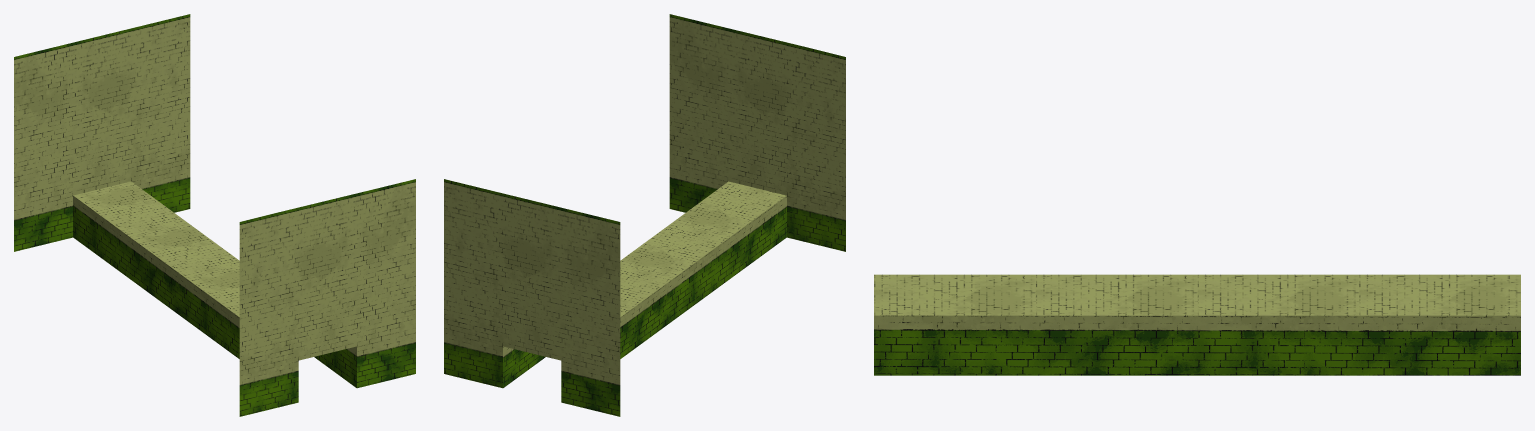
The model's file is Wall2_Green.fbx.
3 views of the same model, side by side, from view 1: azimuth 30°, elevation 25°; view 2: azimuth 150°, elevation 25°; view 3: azimuth 270°, elevation 25° (orthographic). The views are drawn at different scales.
Parts seen in each view (by area): view 1: Wall2_Green; view 2: Wall2_Green; view 3: Wall2_Green.
Boxes of the visible parts, <box> form: Wall2_Green: <box>14,14,415,416</box>; Wall2_Green: <box>444,14,845,416</box>; Wall2_Green: <box>874,274,1520,375</box>.
Size of the model in its own units: 10.33 by 10.92 by 22.88.
